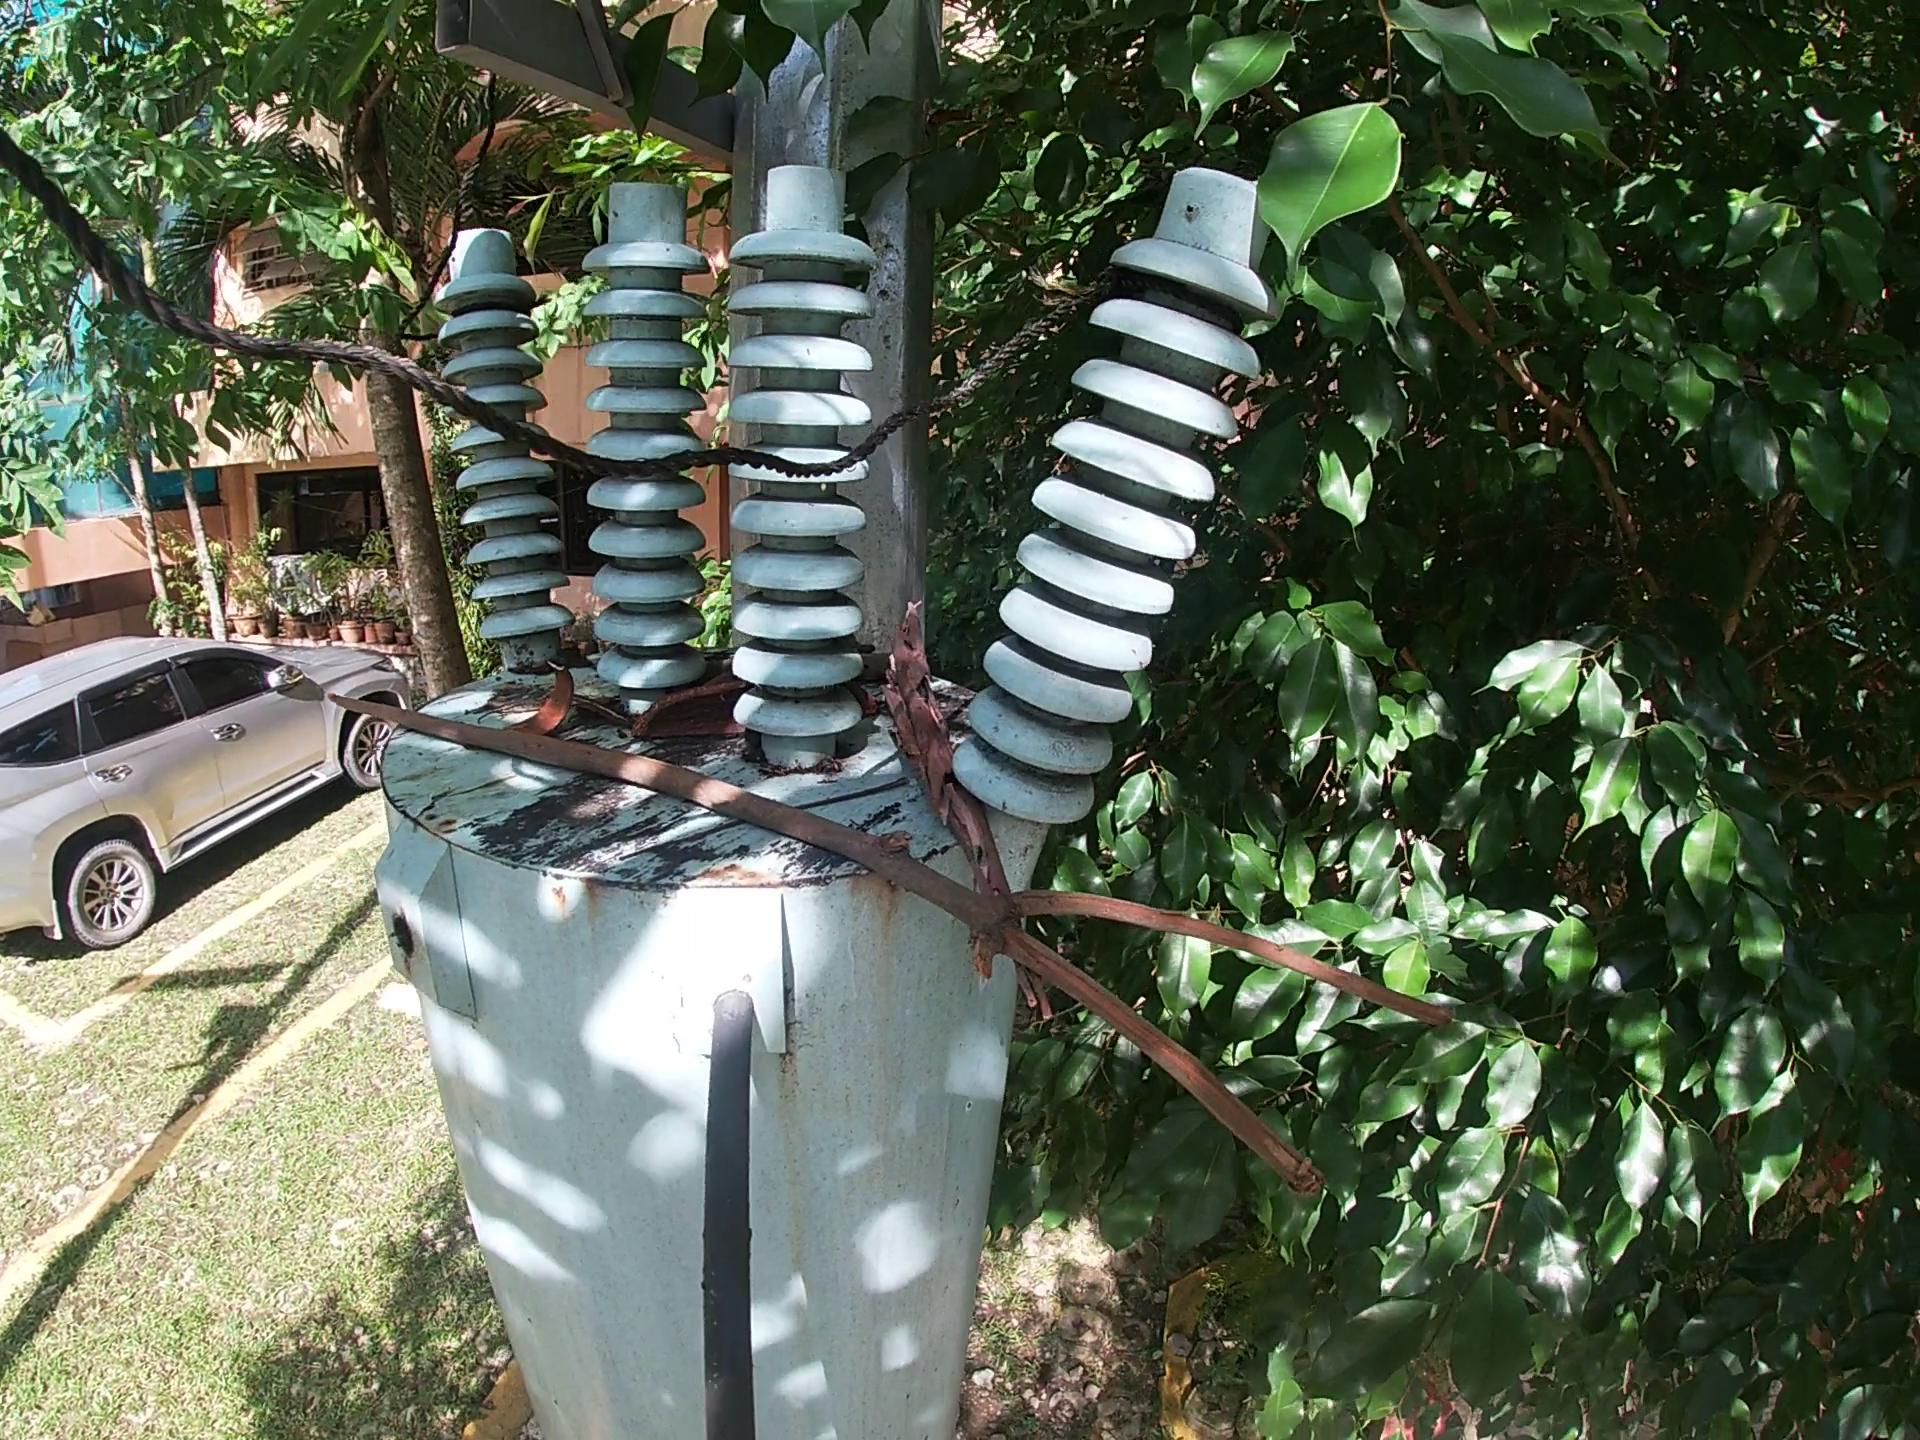mahogany fruit: (624, 678, 759, 747), (493, 656, 584, 741)
tree branch: (324, 687, 1459, 1204), (878, 587, 1057, 1035)
